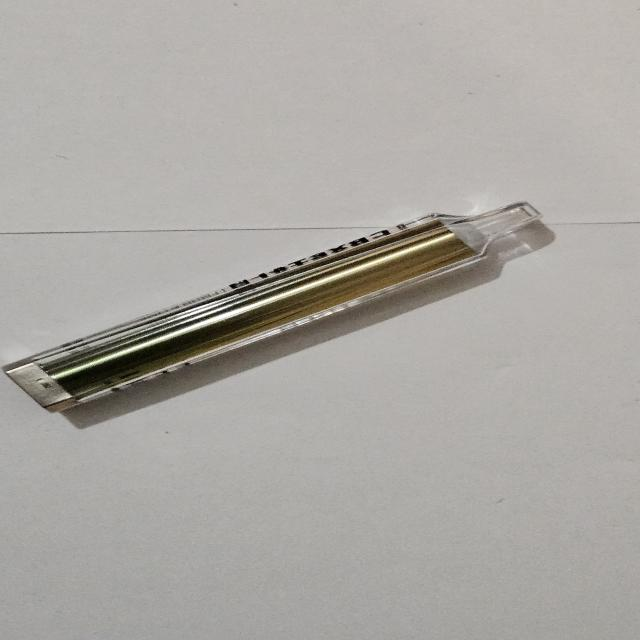Hazard: (2, 199, 556, 414)
